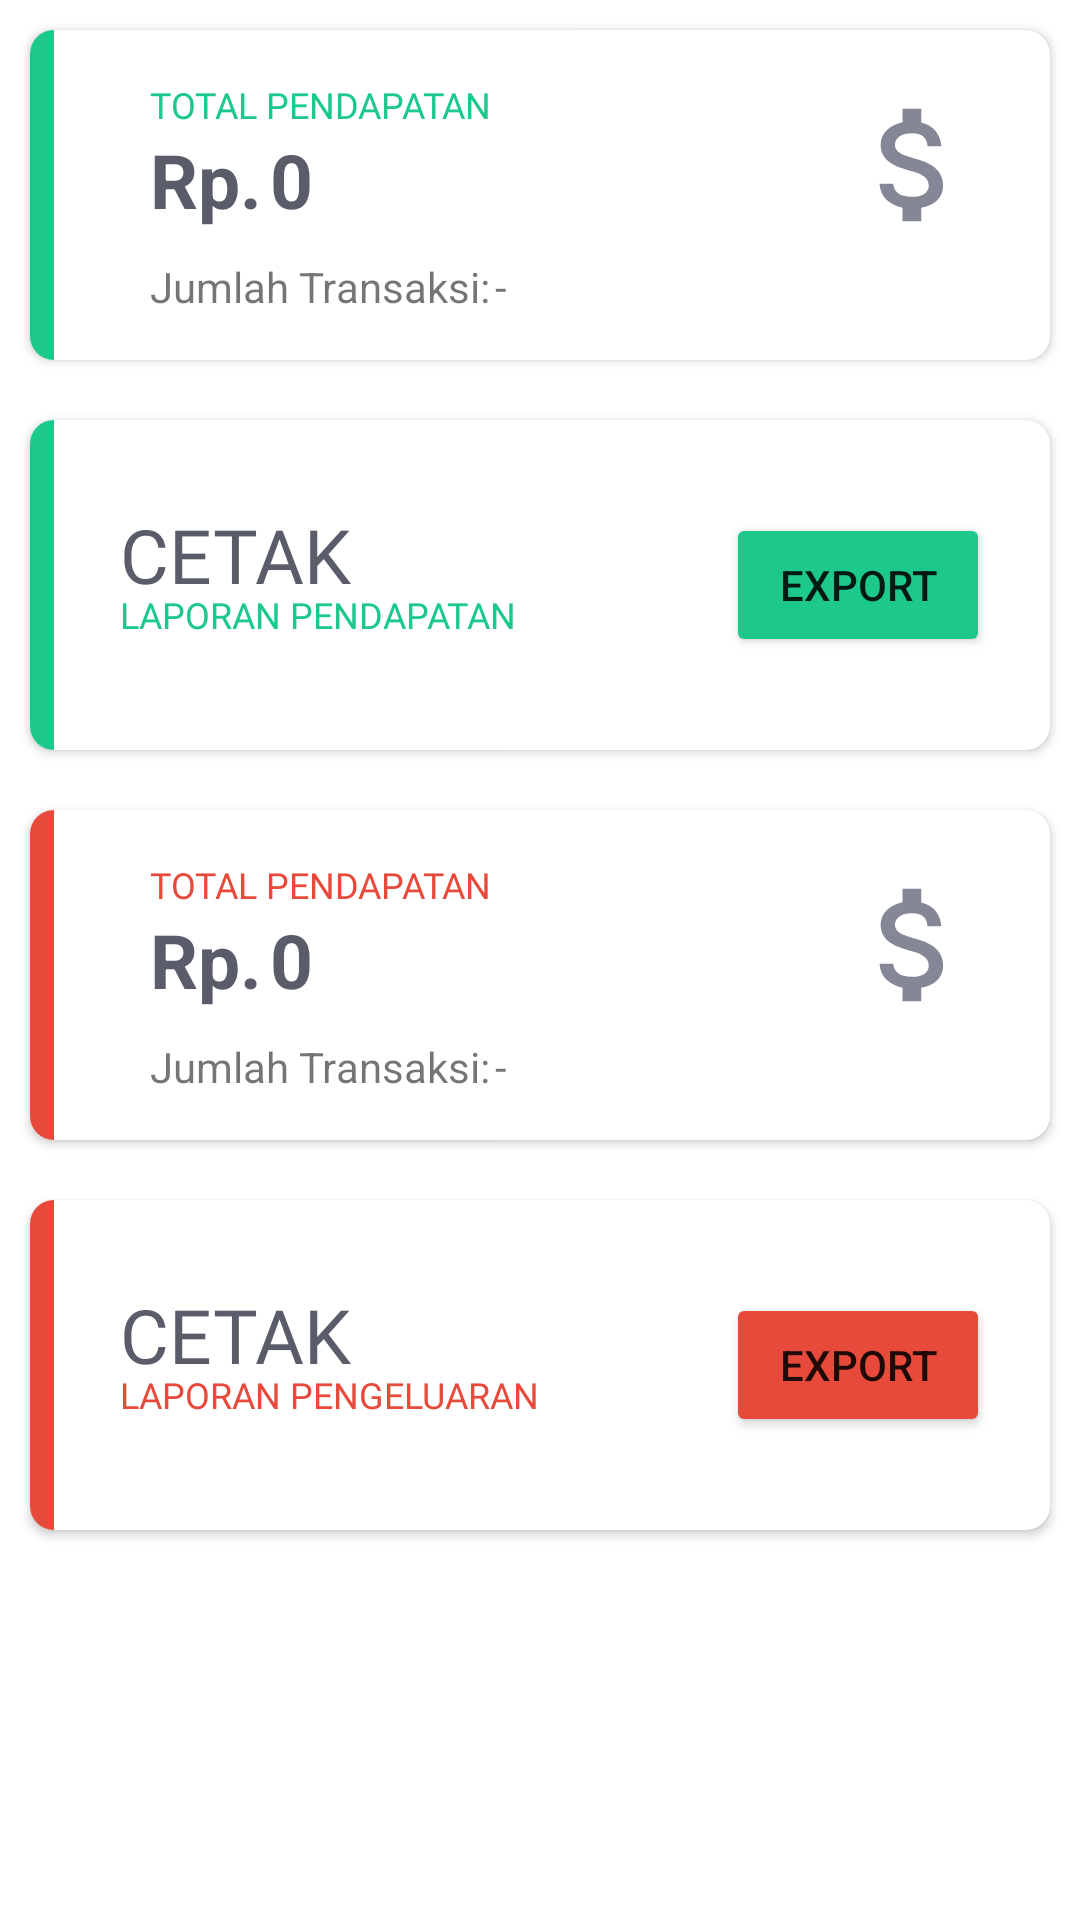

Icons on this 1080x1920 Android screen, each with its box as box=[x1, y1, x2, y2]:
money: box=[879, 108, 943, 222], box=[879, 888, 943, 1002]
